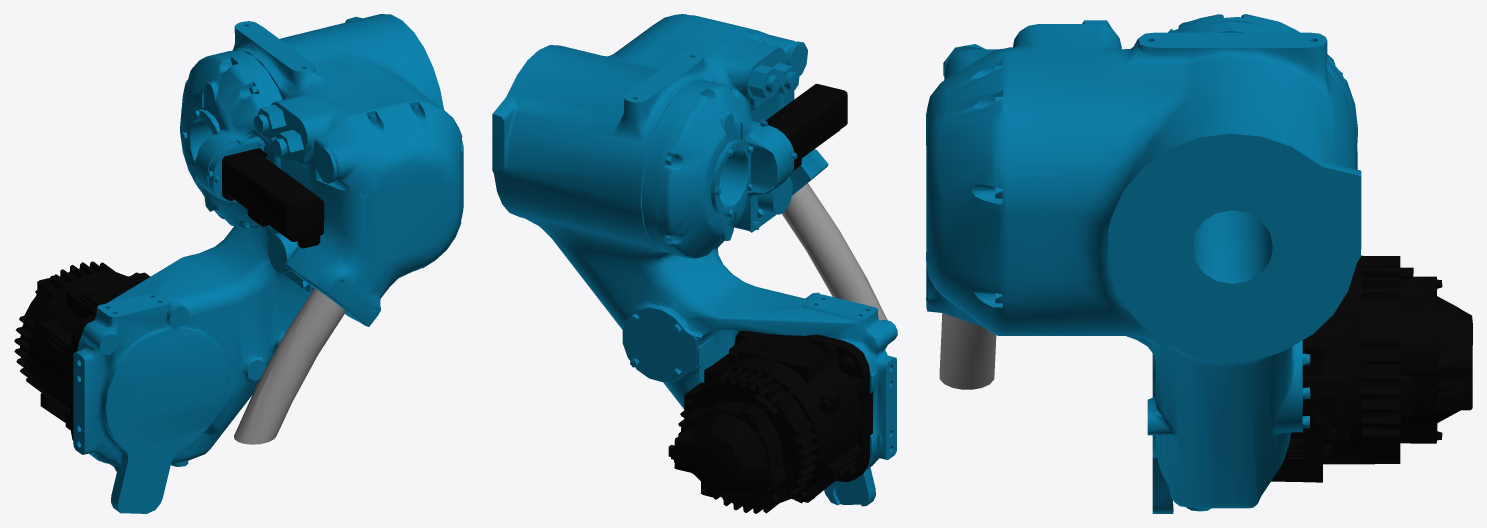
3 views of the same model, side by side, from view 1: azimuth 30°, elevation 25°; view 2: azimuth 150°, elevation 25°; view 3: azimuth 270°, elevation 25° (orthographic). The views are drawn at different scales.
Visible parts, largest first — view 1: gp8l_lk3; view 2: gp8l_lk3; view 3: gp8l_lk3.
Boxes of the visible parts, left/top/right/bottom form: gp8l_lk3: left=14, top=14, right=463, bottom=513; gp8l_lk3: left=492, top=14, right=897, bottom=513; gp8l_lk3: left=926, top=14, right=1472, bottom=513.
Bounding box in the file's own units: 0.3401 × 0.3356 × 0.3917.
